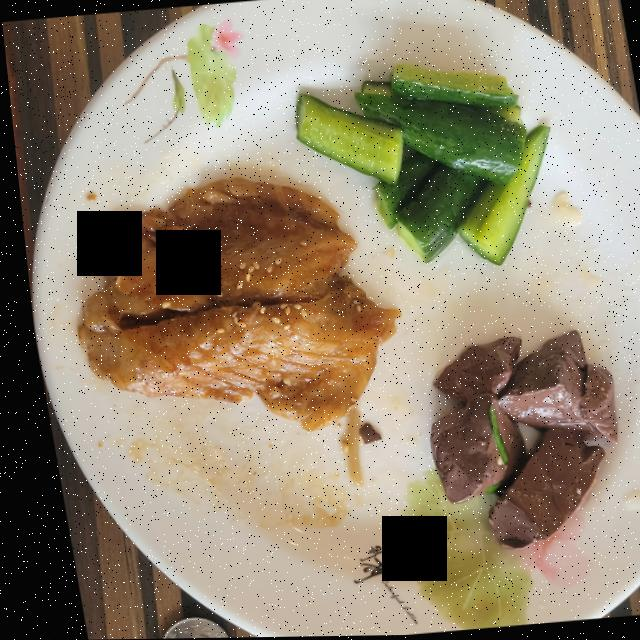Kabayaki sea bream fillet: (71, 178, 392, 430)
coin: (148, 618, 215, 639)
cucumber: (293, 64, 546, 265)
pig blood curd: (420, 332, 607, 505), (477, 430, 594, 550)
